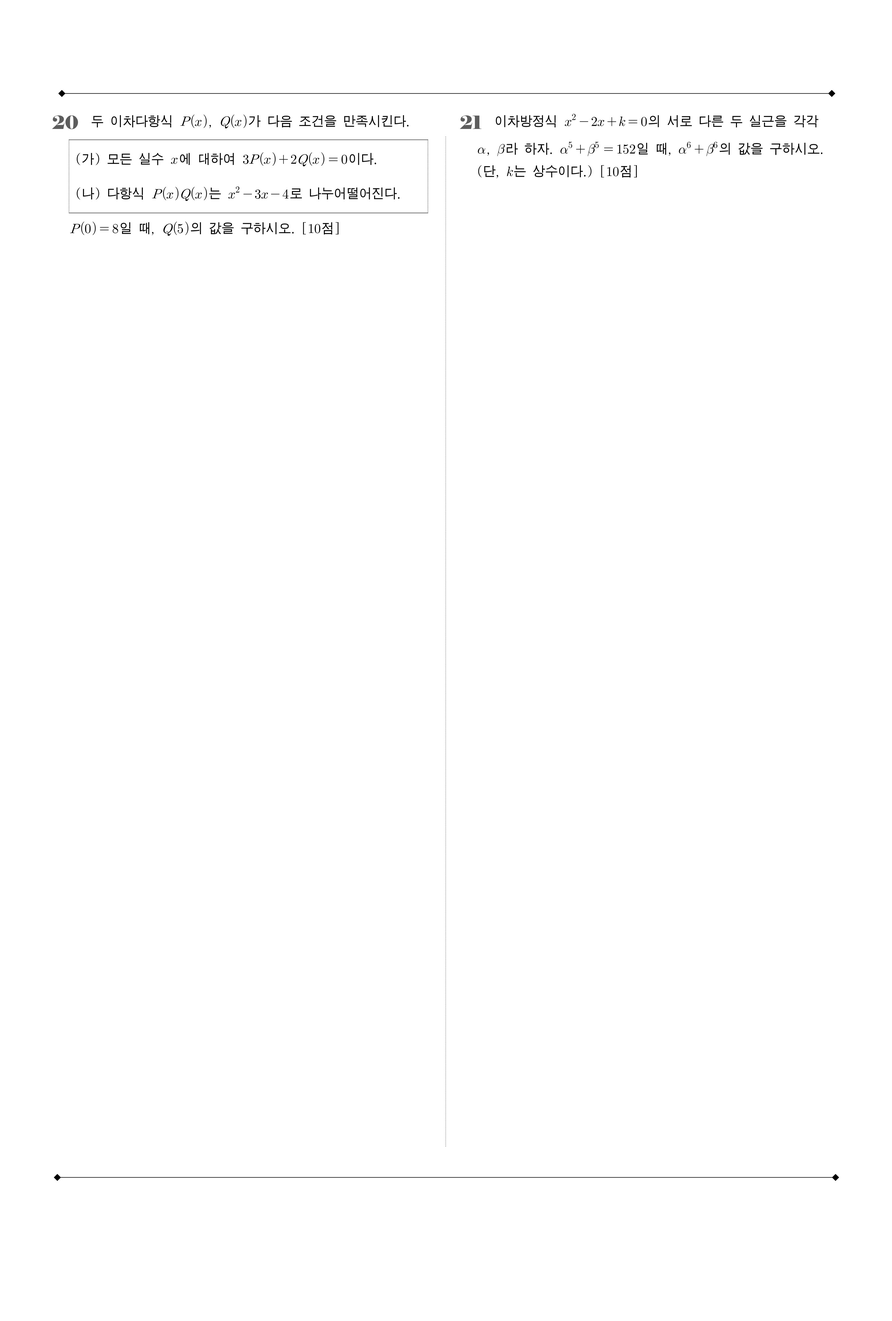problem: (44, 104, 438, 259), (450, 106, 842, 199)
